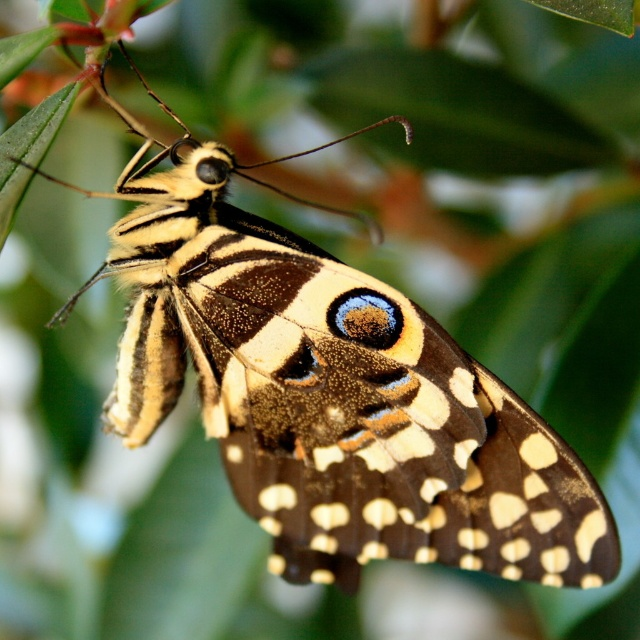Butterfly: (3, 39, 623, 589)
